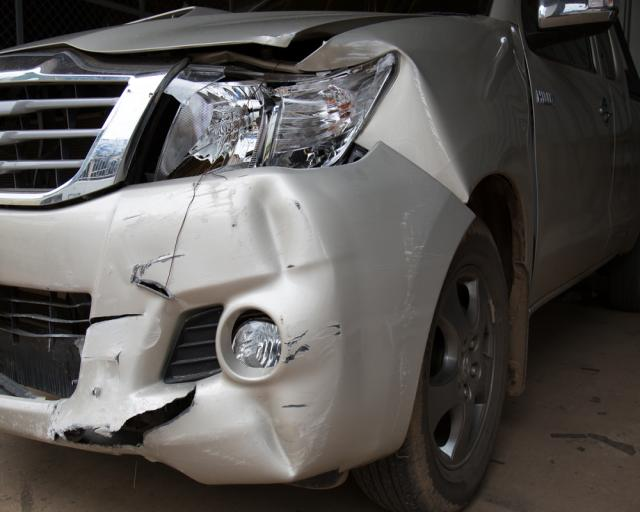crack: (53, 384, 197, 448), (87, 314, 144, 330), (138, 280, 172, 298), (116, 350, 122, 381)
dent: (359, 57, 467, 201), (244, 344, 338, 478), (249, 176, 334, 311)
lamp broken: (151, 53, 400, 178)
scratch: (396, 208, 427, 394), (284, 318, 346, 366), (191, 180, 240, 236), (129, 252, 172, 284)
